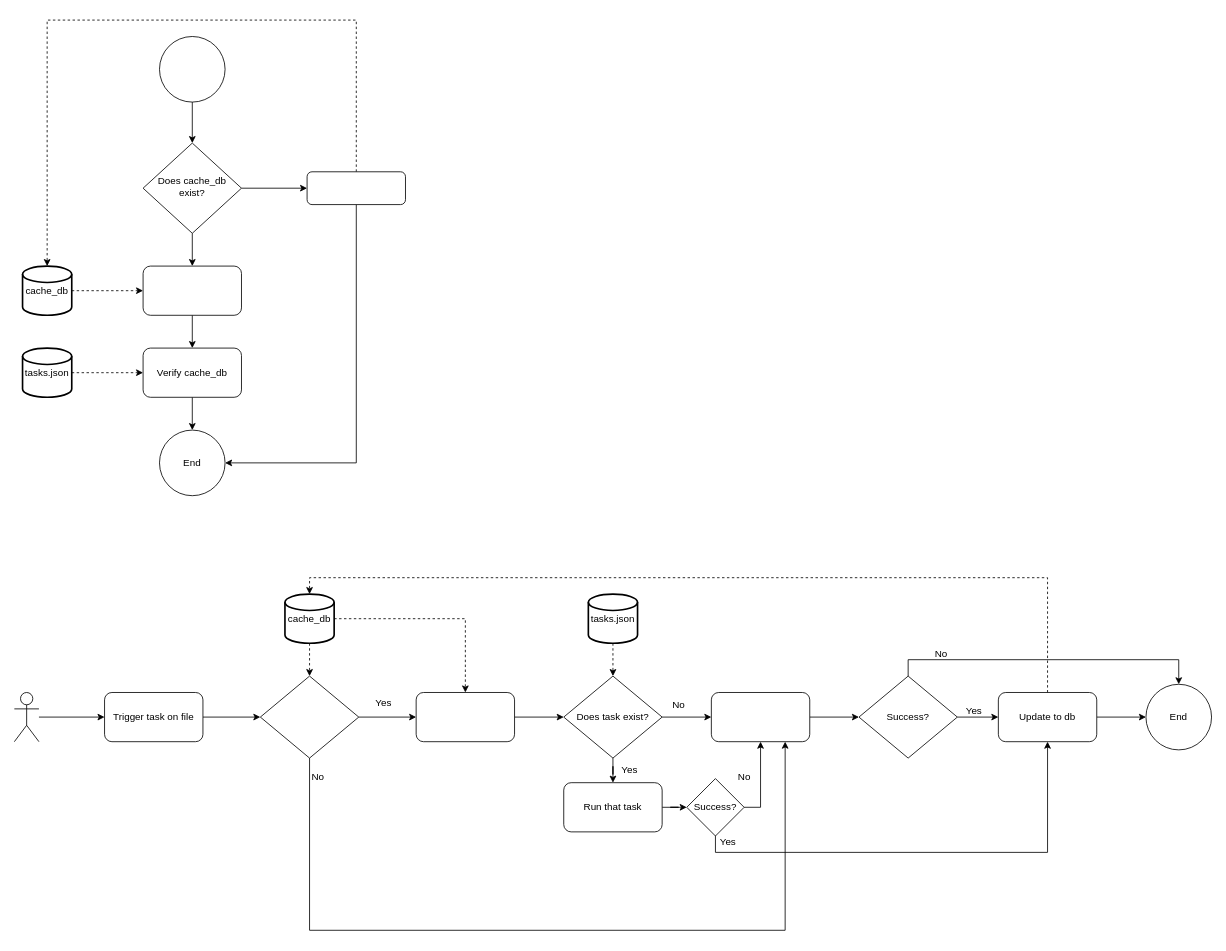
Image size: 1226x951. Some labels were removed from this diagram. Each missing label, with the centre of its shape:
Actor: [26,717]
Create empty cache_db: [355,188]
Does file exist in db?: [309,716]
Get task name in db: [465,717]
Read cache_db: [191,290]
Run all tasks: [760,717]
Start: [192,69]
